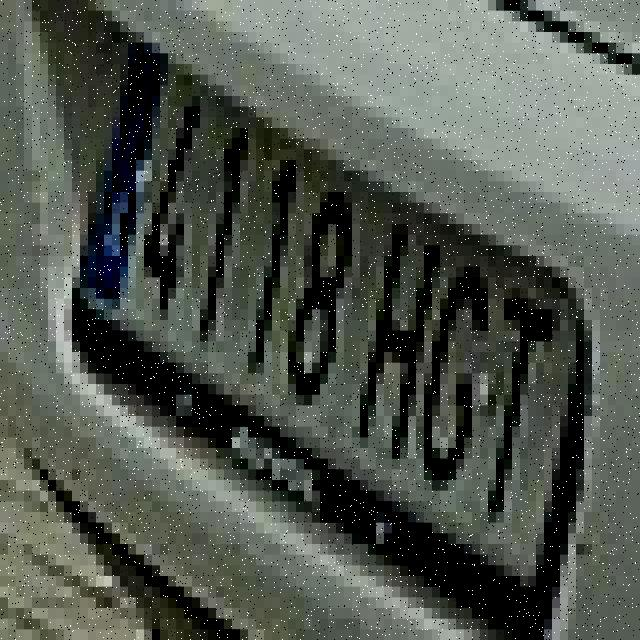licenseplate: (48, 0, 569, 608)
